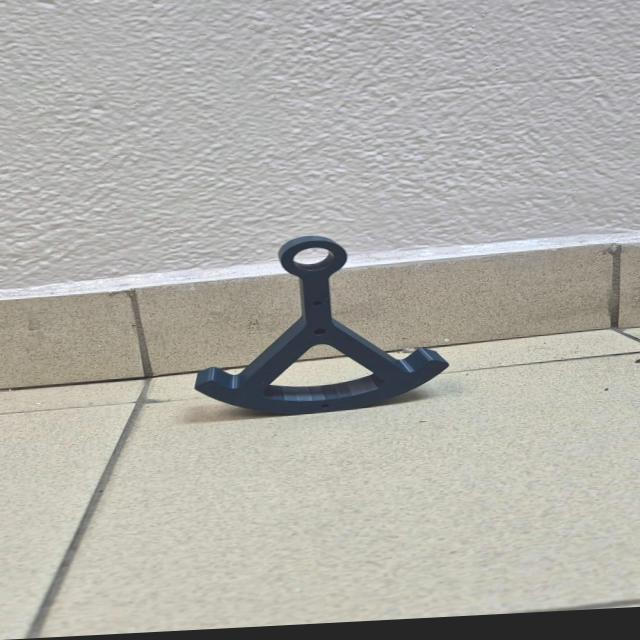haptic: (192, 227, 450, 422)
